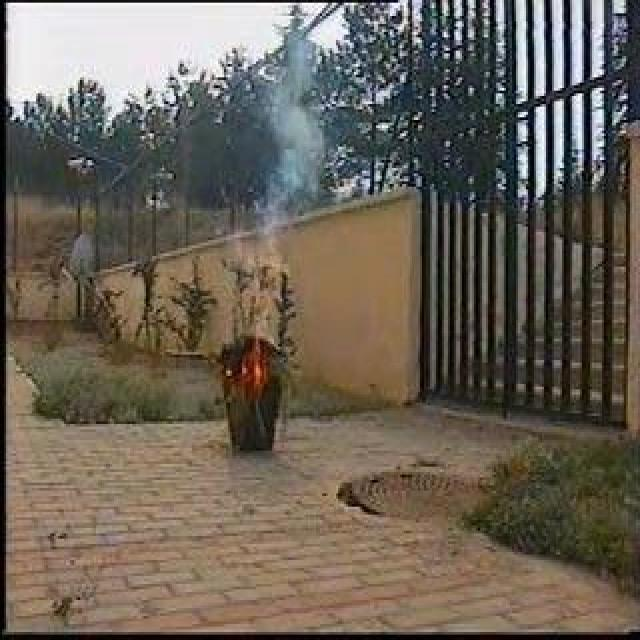fire: (238, 353, 268, 388)
smoke: (264, 31, 326, 220)
